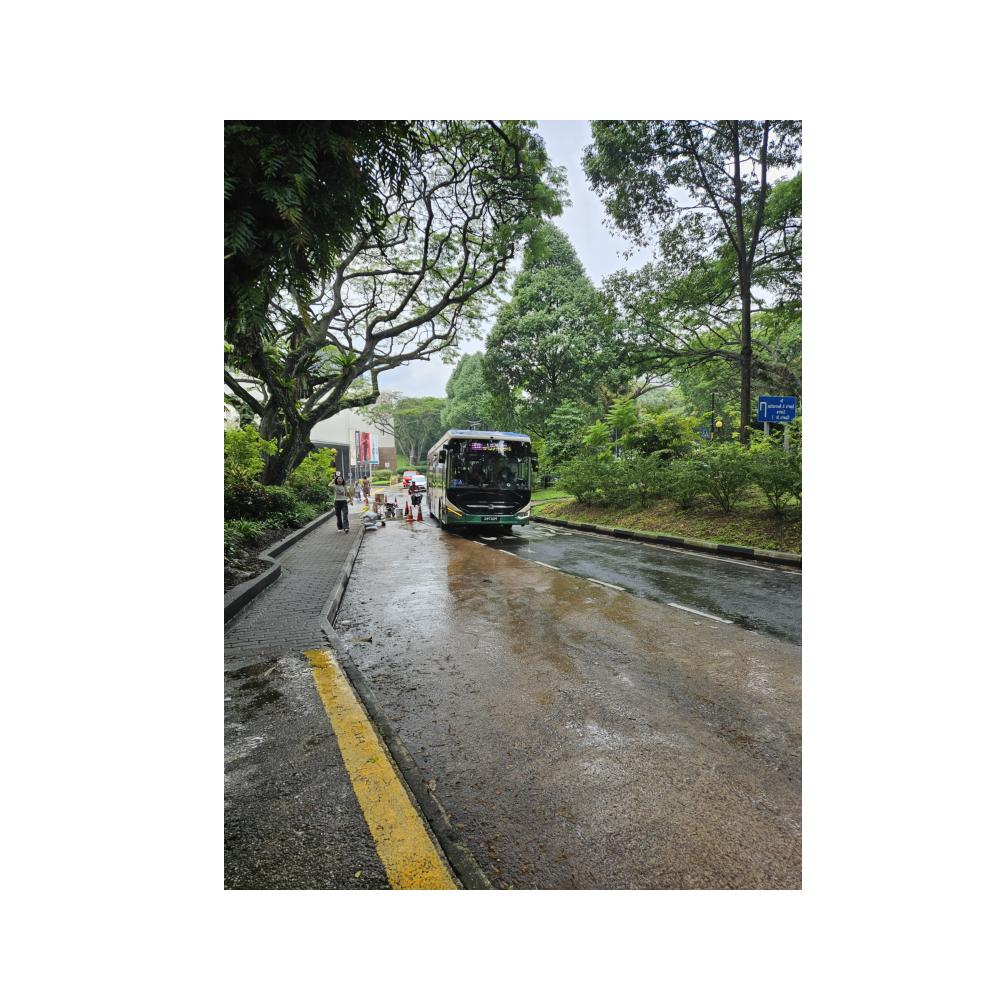bus: (422, 425, 540, 535)
